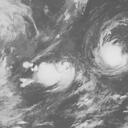cyclone: (92, 16, 127, 73), (27, 57, 81, 93)
